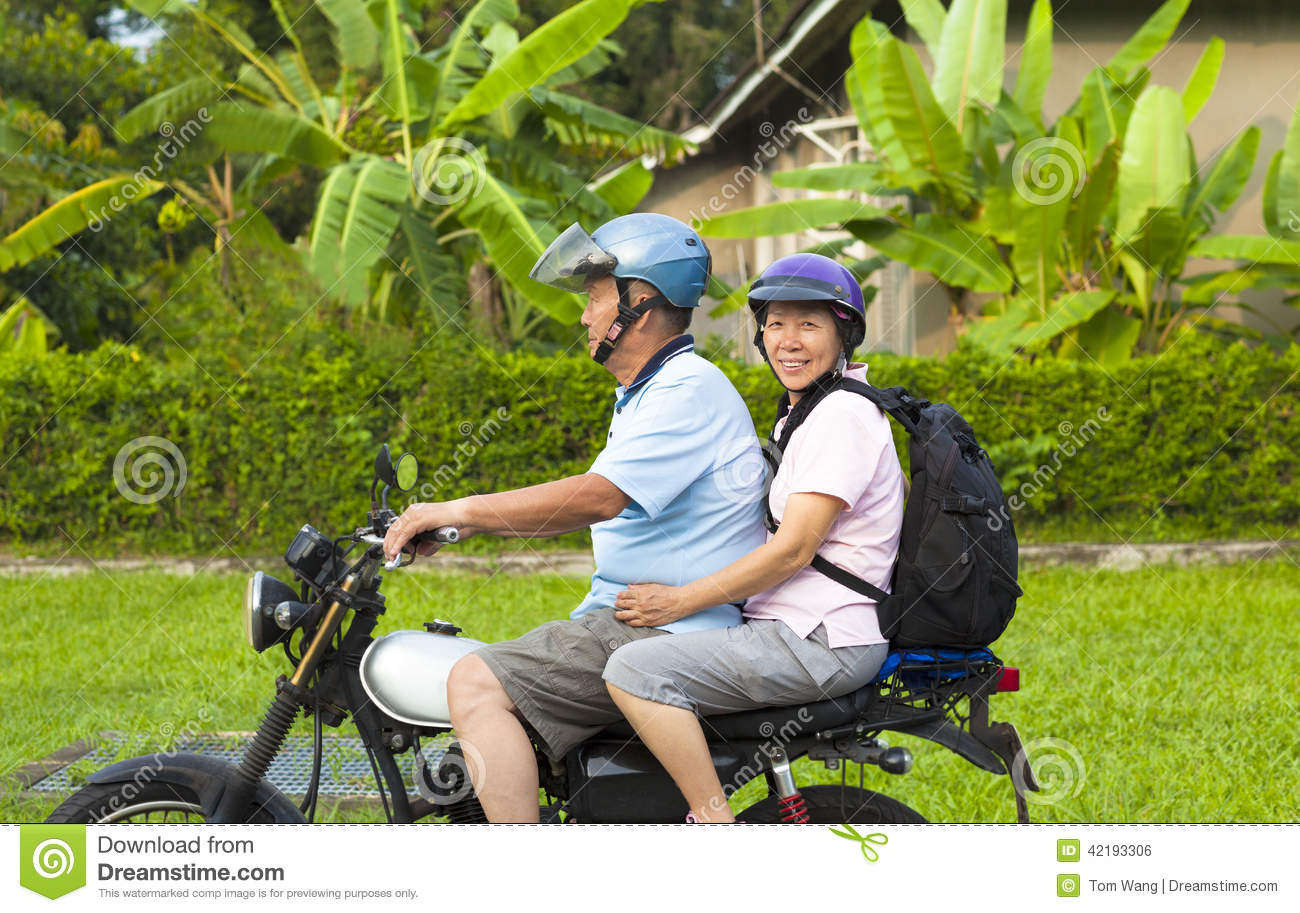helmet: (567, 196, 701, 314), (752, 242, 863, 332)
